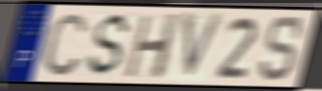2: (215, 15, 260, 81)
C: (40, 10, 90, 79)
H: (123, 11, 183, 81)
S: (84, 11, 133, 80), (258, 14, 306, 84)
V: (180, 11, 229, 84)
